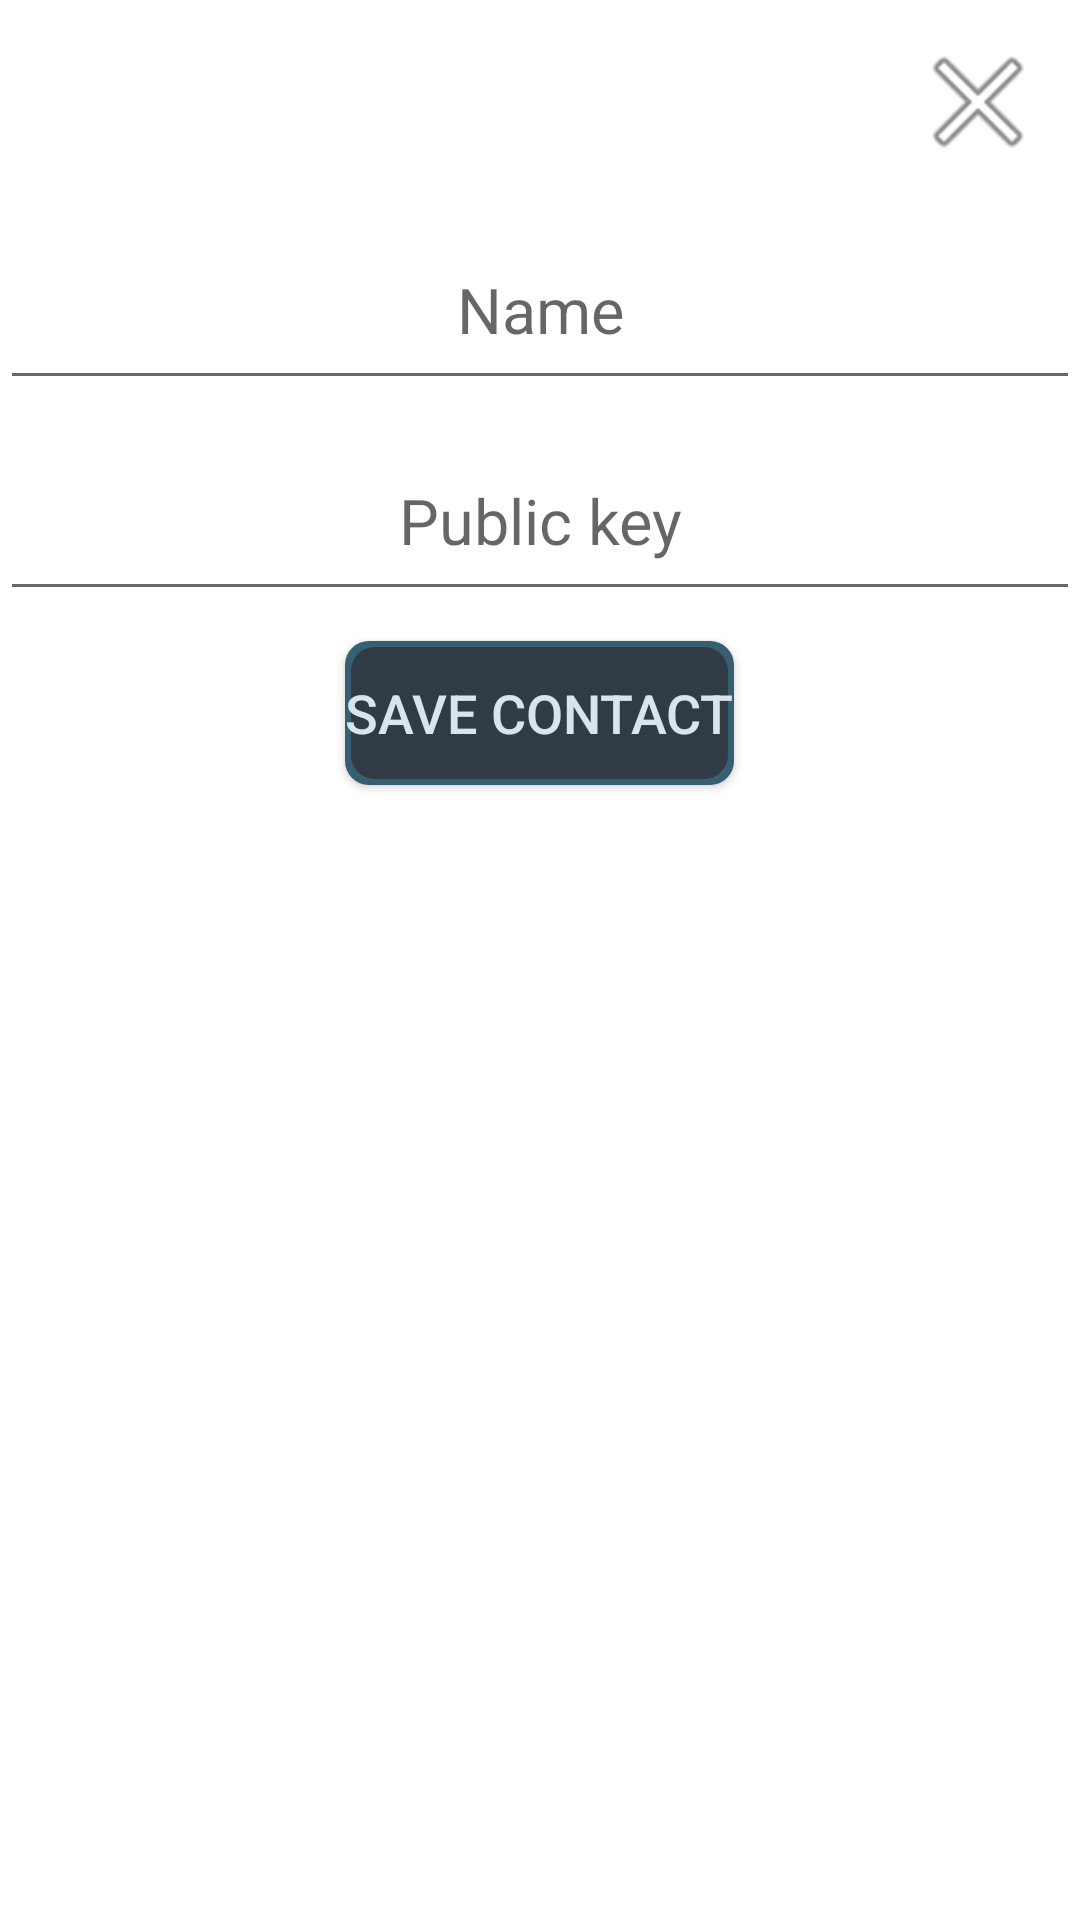

Named icons in this screenshot (1080x1920) and their centers, (x,y):
close clear cancel: (978,102)
